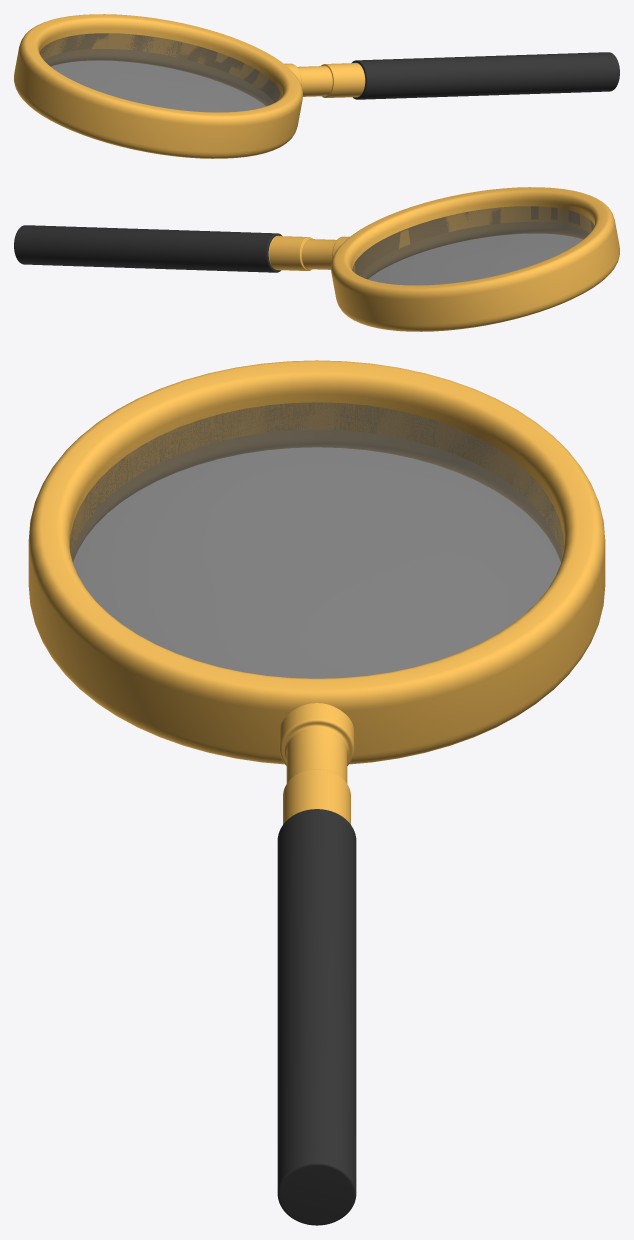
Rendered from Magnifier.fbx.
The picture shows the model from 3 angles, top to bottom: view 1: azimuth 30°, elevation 25°; view 2: azimuth 150°, elevation 25°; view 3: azimuth 270°, elevation 25°; orthographic projection. The views are drawn at different scales.
Visible parts, largest first — view 1: Circle.001_3, Circle_2, Circle.002_4; view 2: Circle.001_3, Circle_2, Circle.002_4; view 3: Circle_2, Circle.001_3, Circle.002_4.
Part boxes in pixels (box(x1,y1,x2,y2)): Circle.001_3: box(14, 14, 302, 158); Circle_2: box(39, 33, 281, 112); Circle.002_4: box(284, 52, 619, 99); Circle.001_3: box(331, 187, 619, 331); Circle_2: box(352, 206, 594, 285); Circle.002_4: box(14, 225, 349, 272); Circle_2: box(69, 402, 564, 678); Circle.001_3: box(28, 360, 605, 764); Circle.002_4: box(277, 703, 356, 1225).
Size of the model in its own units: 540 by 141 by 233.
